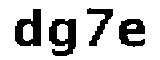7: (89, 6, 113, 50)
d: (12, 6, 42, 50)
e: (116, 16, 149, 53)
g: (47, 15, 80, 60)
